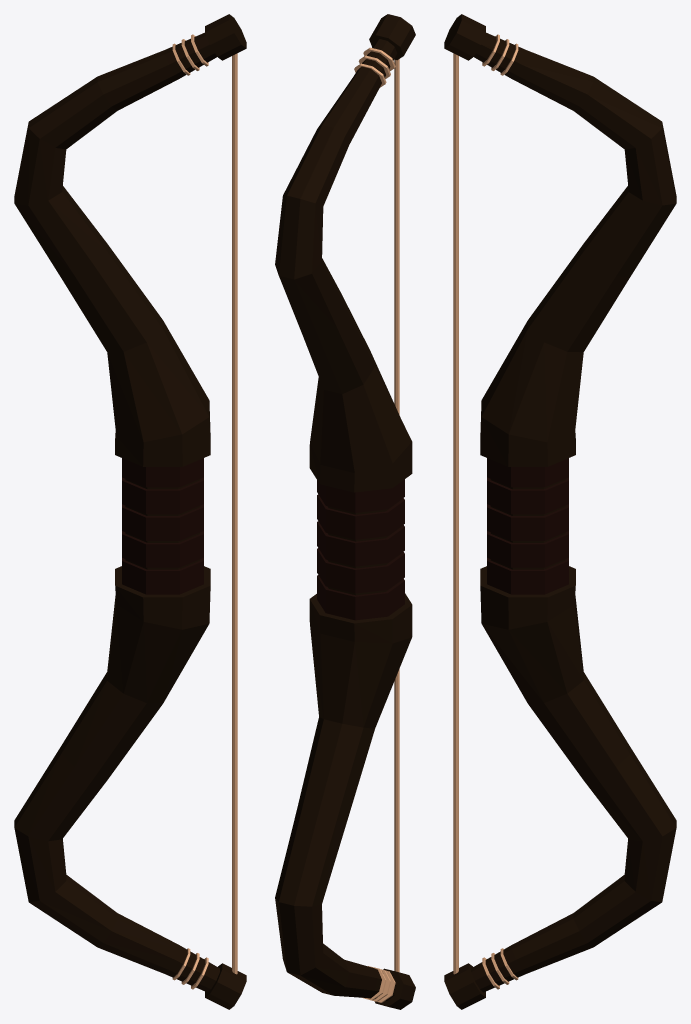
File: outrider_shortbow.gltf
3 views of the same model, side by side, from view 1: azimuth 90°, elevation 25°; view 2: azimuth 150°, elevation 25°; view 3: azimuth 270°, elevation 25° (orthographic).
Parts seen in each view (by area): view 1: OutriderShortbow; view 2: OutriderShortbow; view 3: OutriderShortbow.
Boxes of the visible parts, bbox=[...] form: OutriderShortbow: bbox=[14, 14, 246, 1009]; OutriderShortbow: bbox=[275, 14, 415, 1009]; OutriderShortbow: bbox=[444, 14, 676, 1009].
Bounding box in the file's own units: 0.0918 × 1.05 × 0.2232.
1 material, 1 textured.
